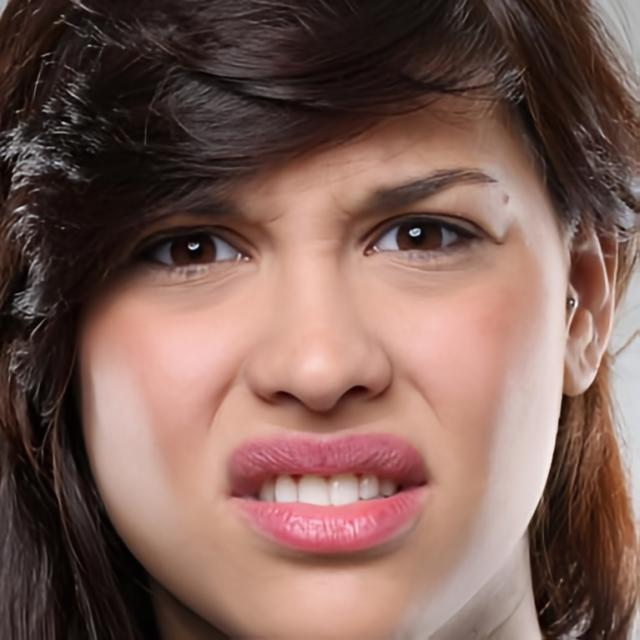disgust: (74, 32, 569, 640)
